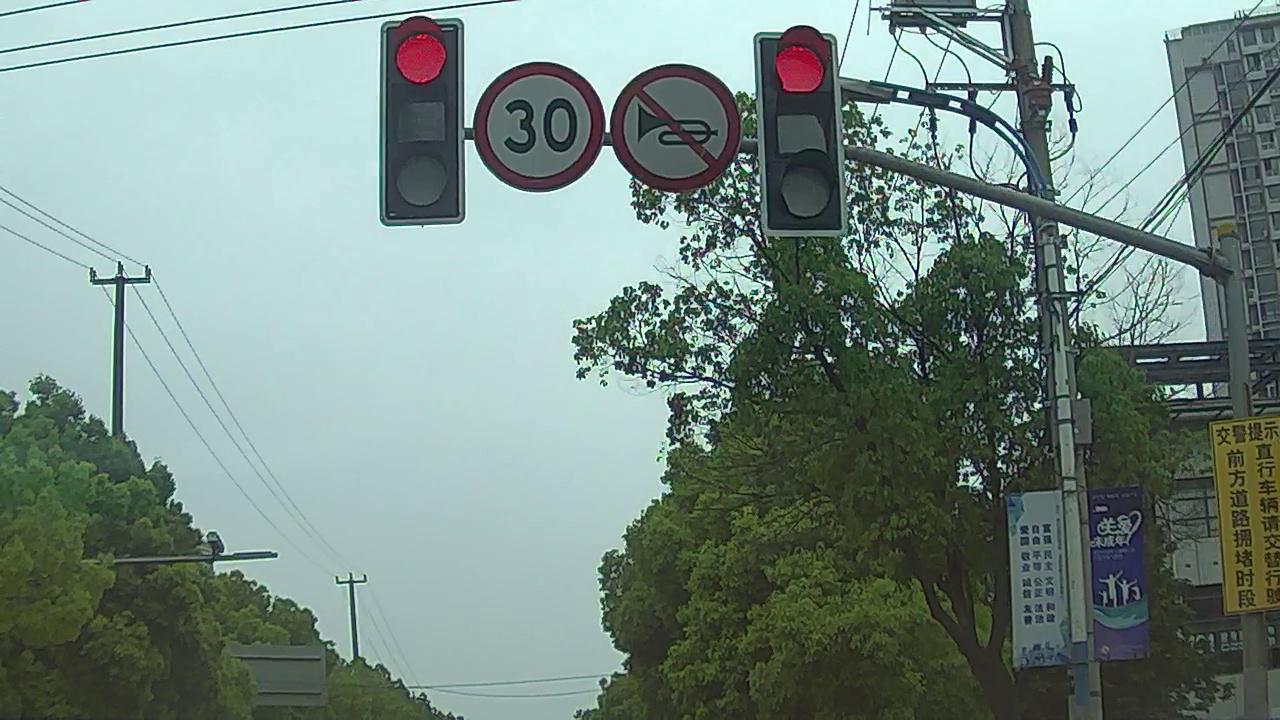traffic_light: (756, 37, 841, 234), (389, 20, 463, 220)
